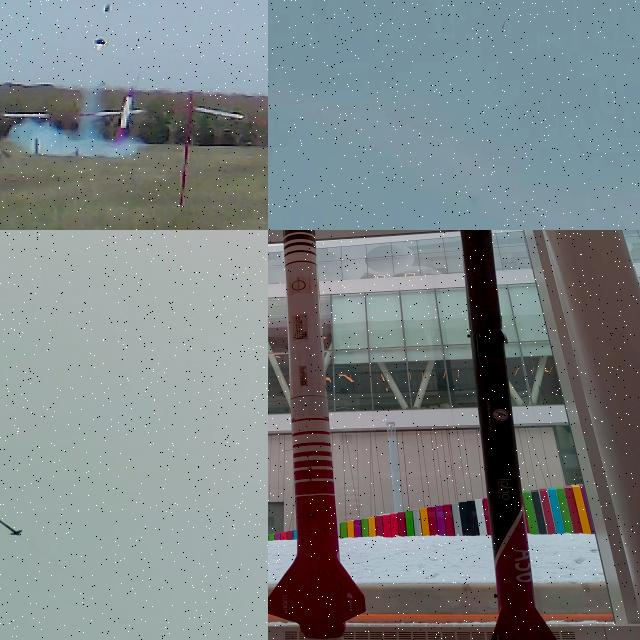Rocket: (268, 230, 366, 640), (461, 230, 558, 640), (114, 85, 136, 143), (92, 1, 111, 44), (0, 508, 22, 535), (502, 20, 506, 29)
